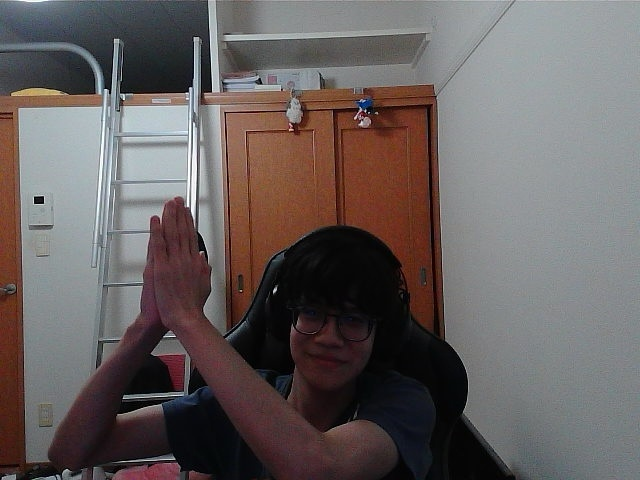pray: (156, 201, 207, 310)
